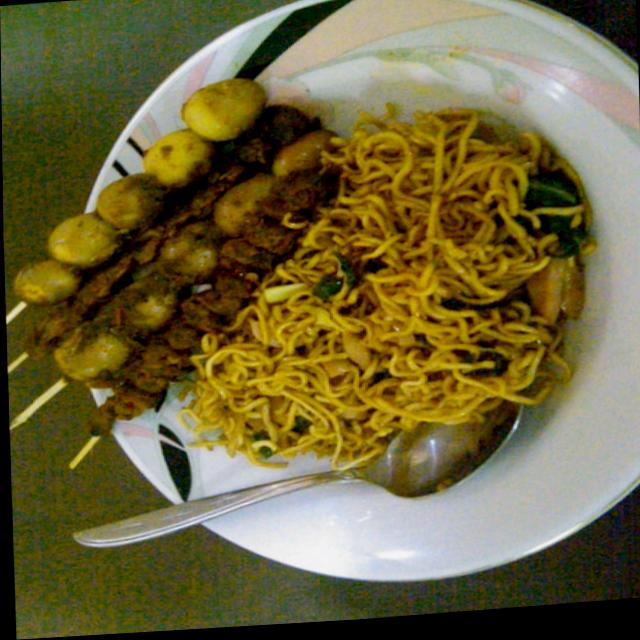面条主食: (20, 21, 613, 576)
